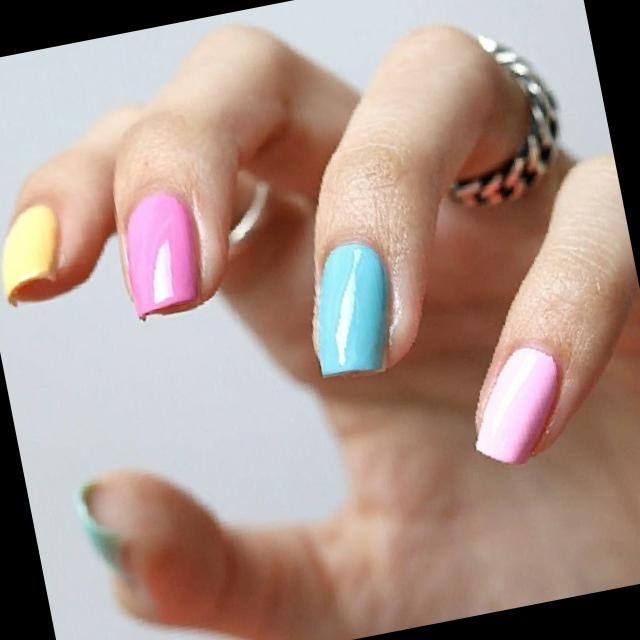Nail: (315, 241, 389, 376), (476, 346, 559, 464), (126, 192, 198, 318), (1, 203, 58, 304), (75, 480, 121, 572)
